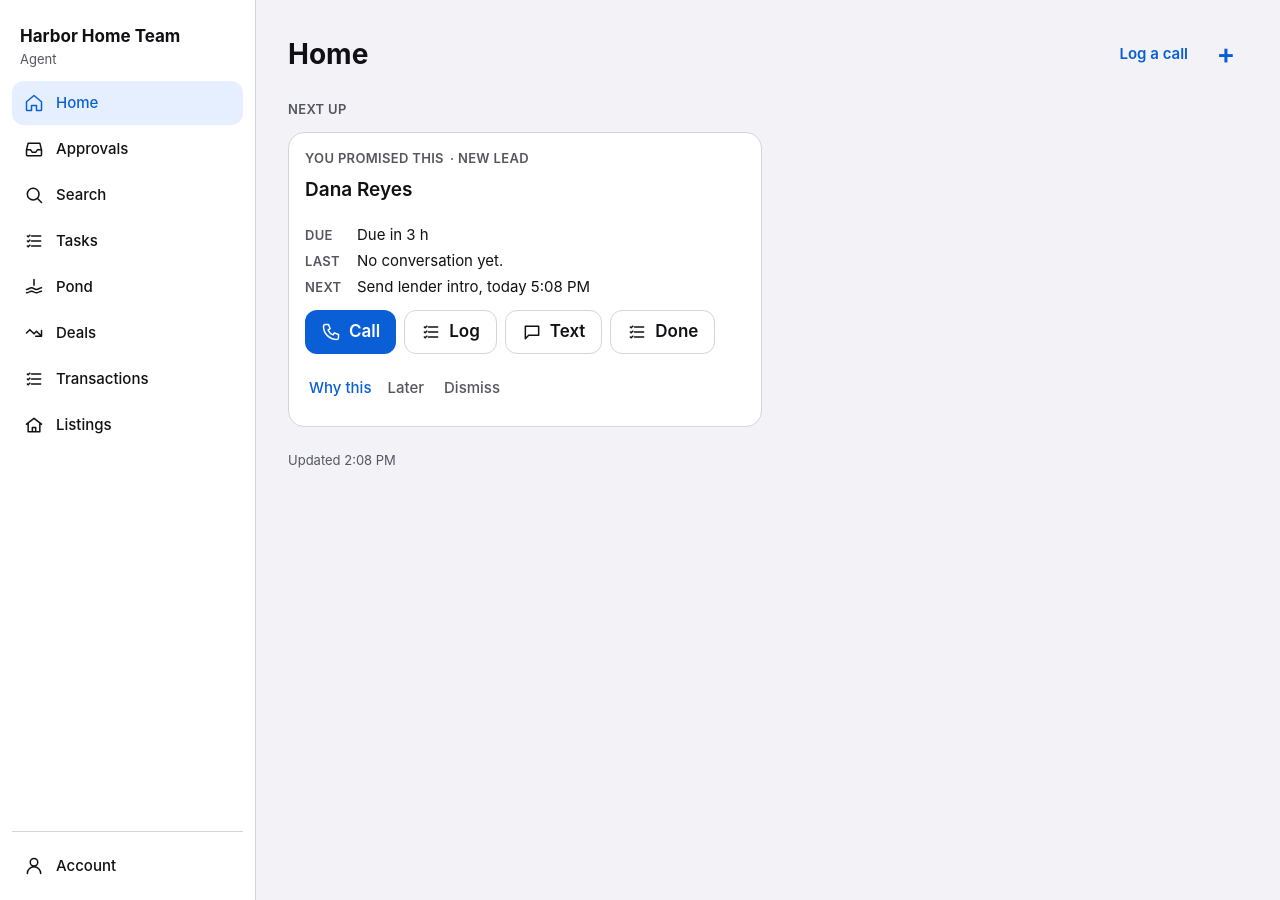
Test: R-TODAY-7: one pass from a follow-up card on Today › the preselected follow-up is only a preselection: "None" removes it, and then no task is made
Click the button with aria-label "Log for Dana Reyes".
click(450, 332)  # box [404, 310, 497, 354]
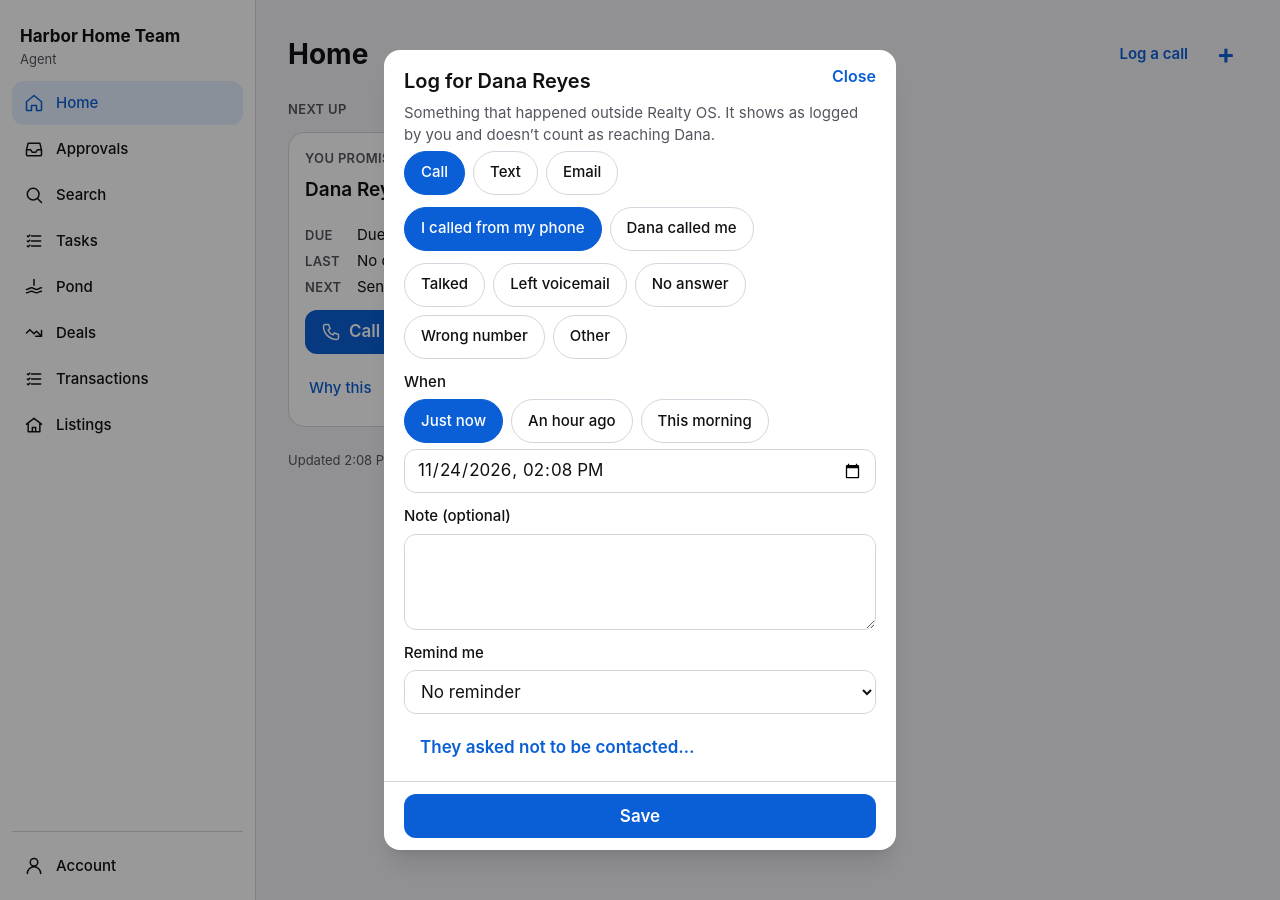
Click the button "Left voicemail".
click(560, 285)  # box [493, 263, 627, 307]
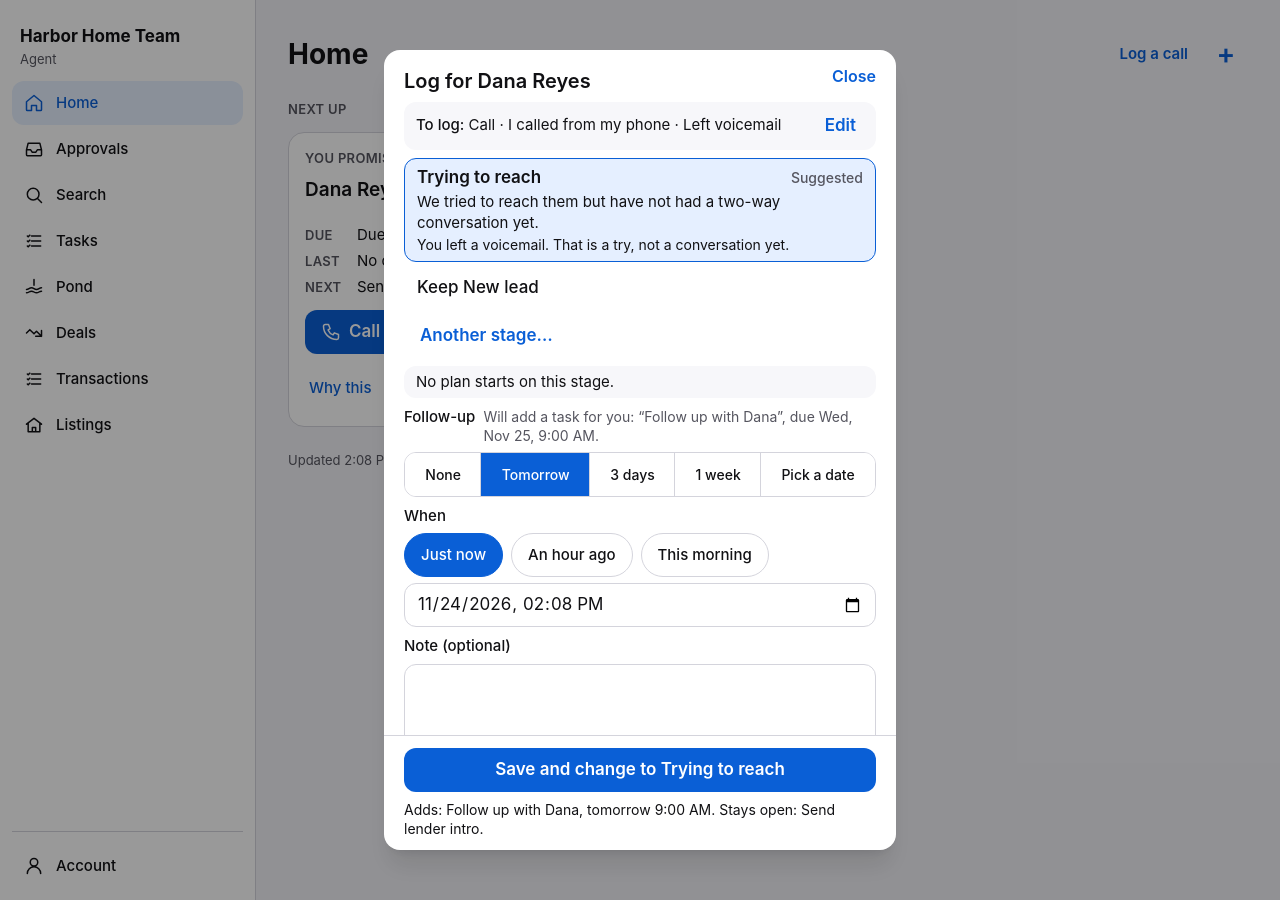
Check: the radio button labelled "Trying to reach Suggested" is shown, box [404, 158, 876, 262]
Click the button "None".
click(443, 474)  # box [404, 452, 481, 496]
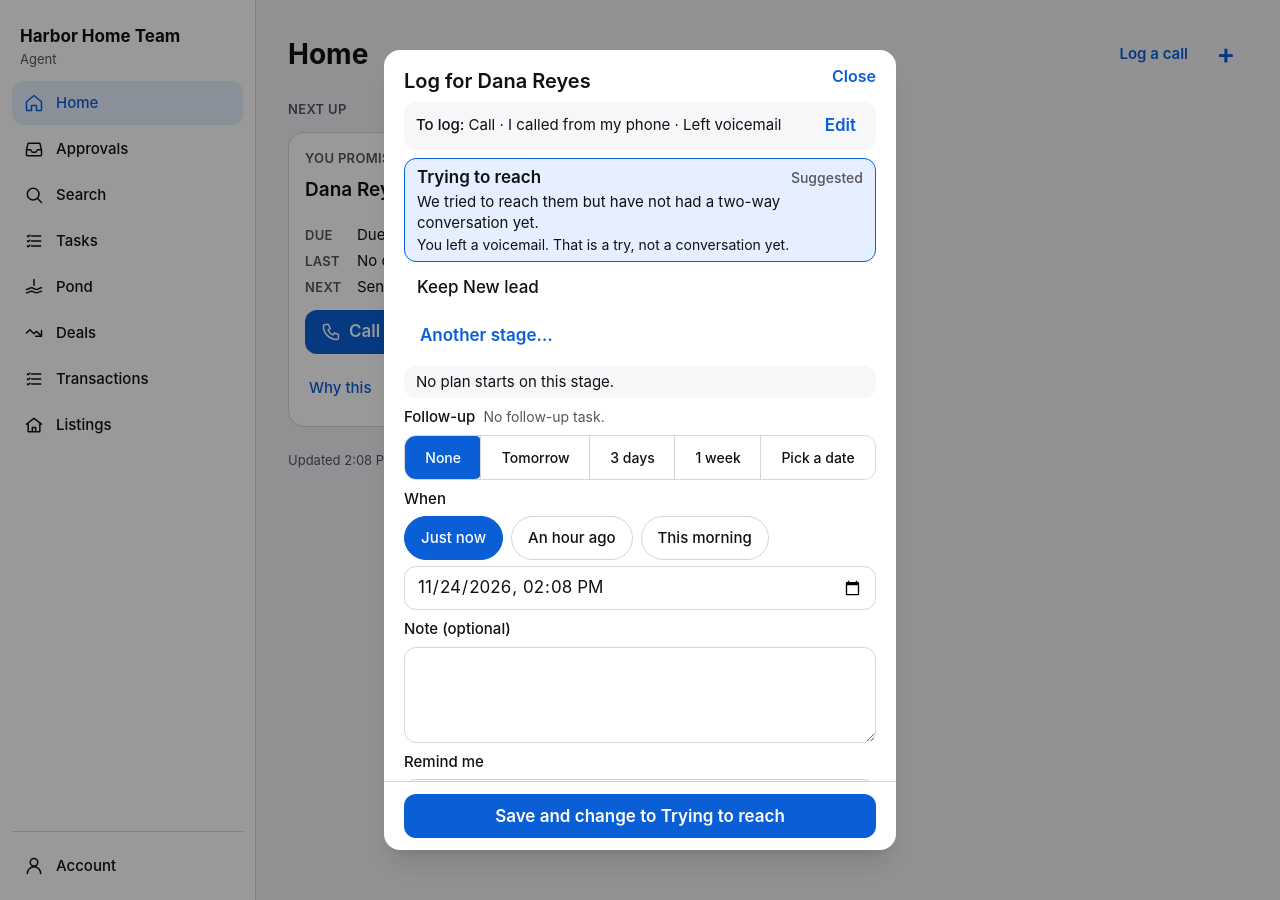
Check: the button "Save and change to Trying to reach" is enabled
Click the button "Save and change to Trying to reach".
click(640, 816)  # box [404, 794, 876, 838]
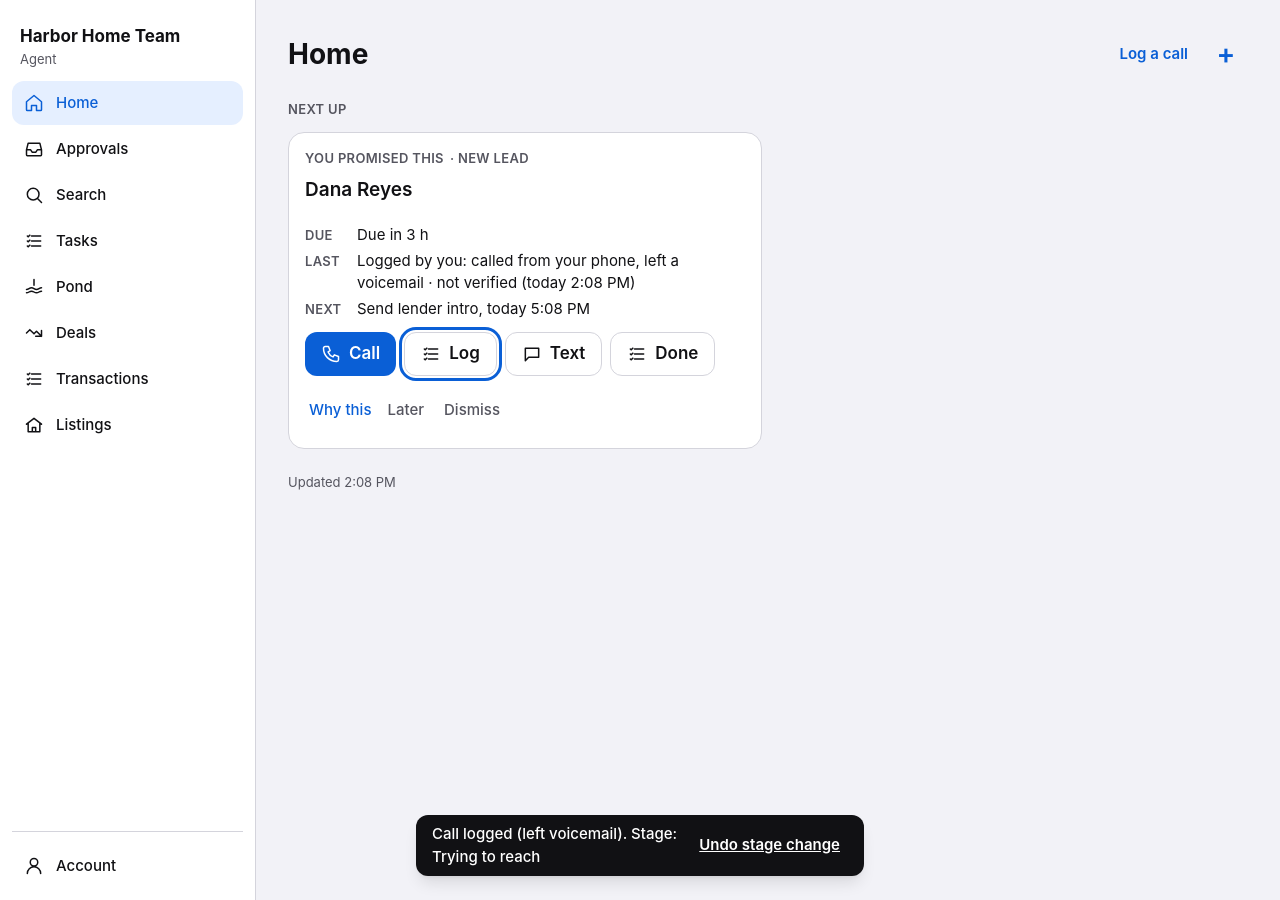
Check: the dialog is gone
